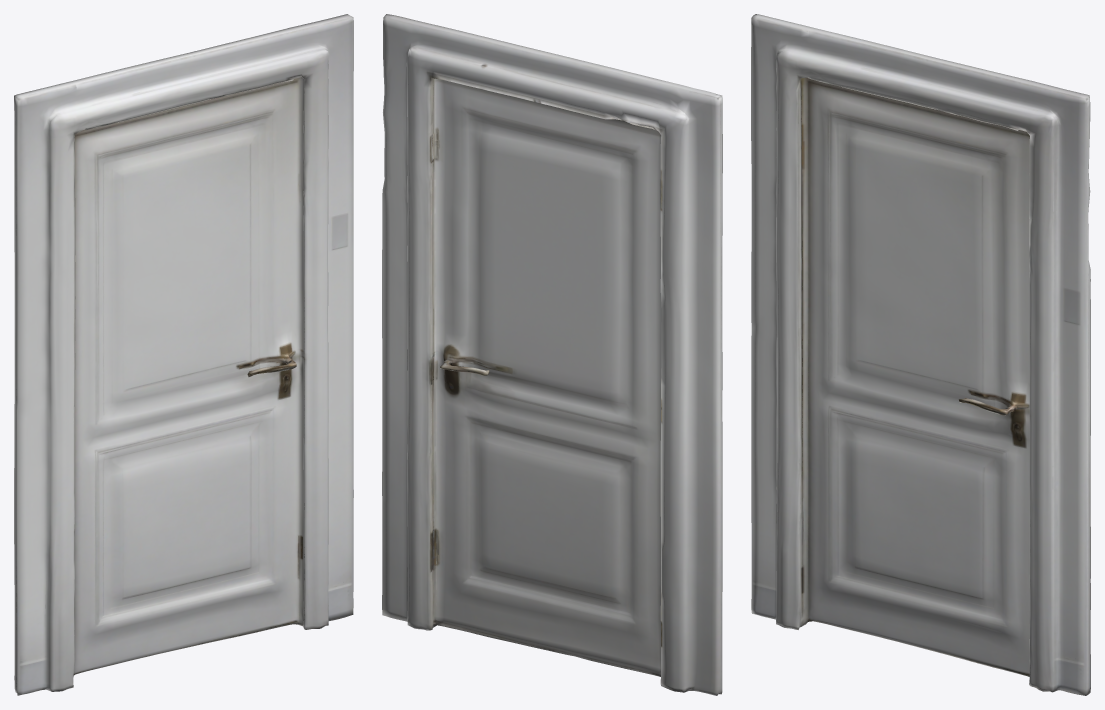
File: white_door_with_door__0203225928_texture.fbx
3 renders of one model, left to right at view 1: azimuth 30°, elevation 25°; view 2: azimuth 150°, elevation 25°; view 3: azimuth 330°, elevation 25°, orthographic.
Visible parts, largest first — view 1: Mesh1_Mesh1.010; view 2: Mesh1_Mesh1.010; view 3: Mesh1_Mesh1.010.
Part boxes in pixels (bbox=[...]): Mesh1_Mesh1.010: bbox=[14, 14, 353, 695]; Mesh1_Mesh1.010: bbox=[382, 14, 722, 695]; Mesh1_Mesh1.010: bbox=[751, 14, 1090, 695].
Bounding box in the file's own units: 118 × 200 × 17.26.
Materials: 1 (1 with a texture image).
